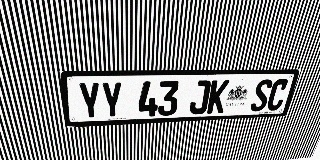3: (158, 81, 179, 116)
4: (138, 81, 159, 117)
C: (265, 79, 290, 111)
J: (189, 80, 211, 115)
K: (206, 80, 230, 114)
S: (249, 79, 274, 112)
Y: (77, 82, 102, 120), (100, 82, 123, 119)
